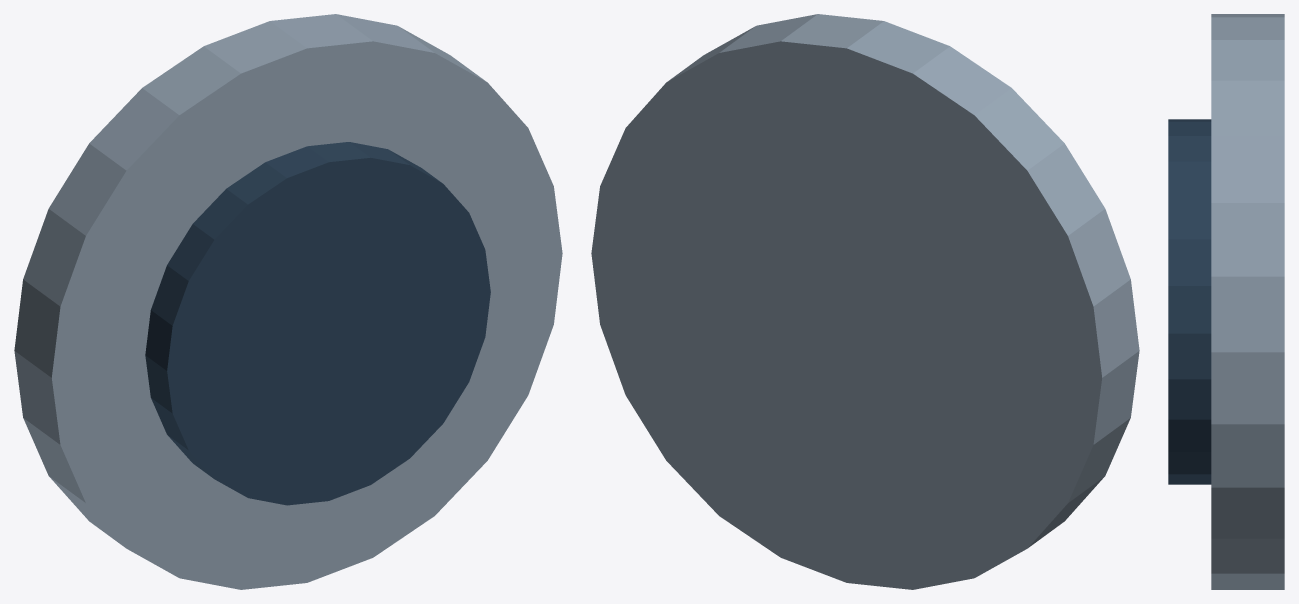
The model's file is screw_mount.glb.
The picture shows the model from 3 angles, left to right: view 1: azimuth 30°, elevation 25°; view 2: azimuth 150°, elevation 25°; view 3: azimuth 270°, elevation 25°; orthographic projection. The views are drawn at different scales.
Parts seen in each view (by area): view 1: Screw mounting ring, Recessed screw hole; view 2: Screw mounting ring; view 3: Screw mounting ring, Recessed screw hole.
Boxes of the visible parts, box(x1,y1,x2,y2) form: Screw mounting ring: box(14, 14, 562, 589); Recessed screw hole: box(145, 142, 490, 505); Screw mounting ring: box(591, 14, 1139, 589); Screw mounting ring: box(1211, 14, 1284, 589); Recessed screw hole: box(1168, 119, 1211, 484).
Size of the model in its own units: 0.142 by 0.142 by 0.0285.
